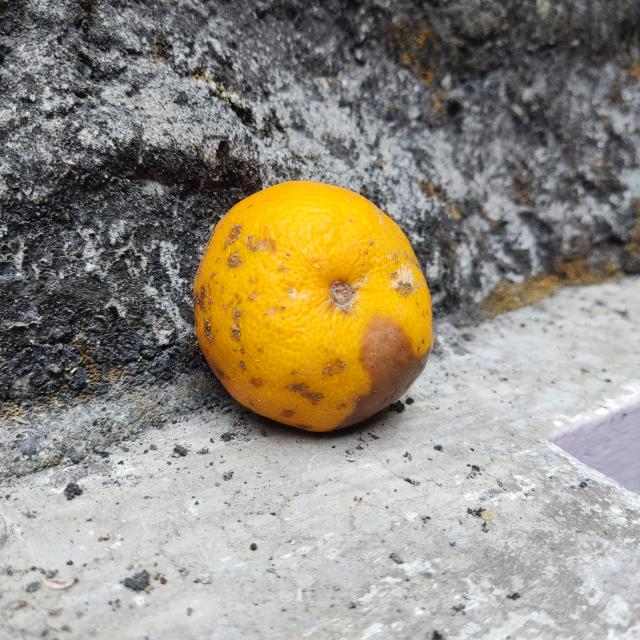orange: (194, 182, 434, 434)
